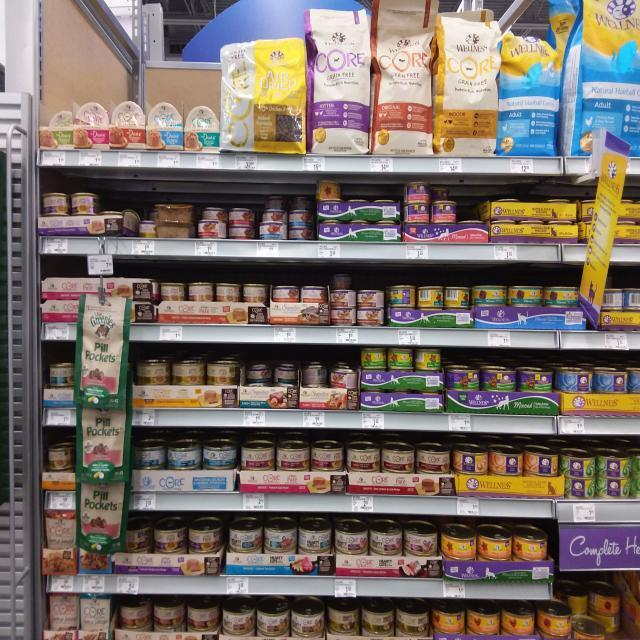Imprecise: (257, 194, 313, 238), (564, 587, 601, 640), (326, 270, 356, 326)
